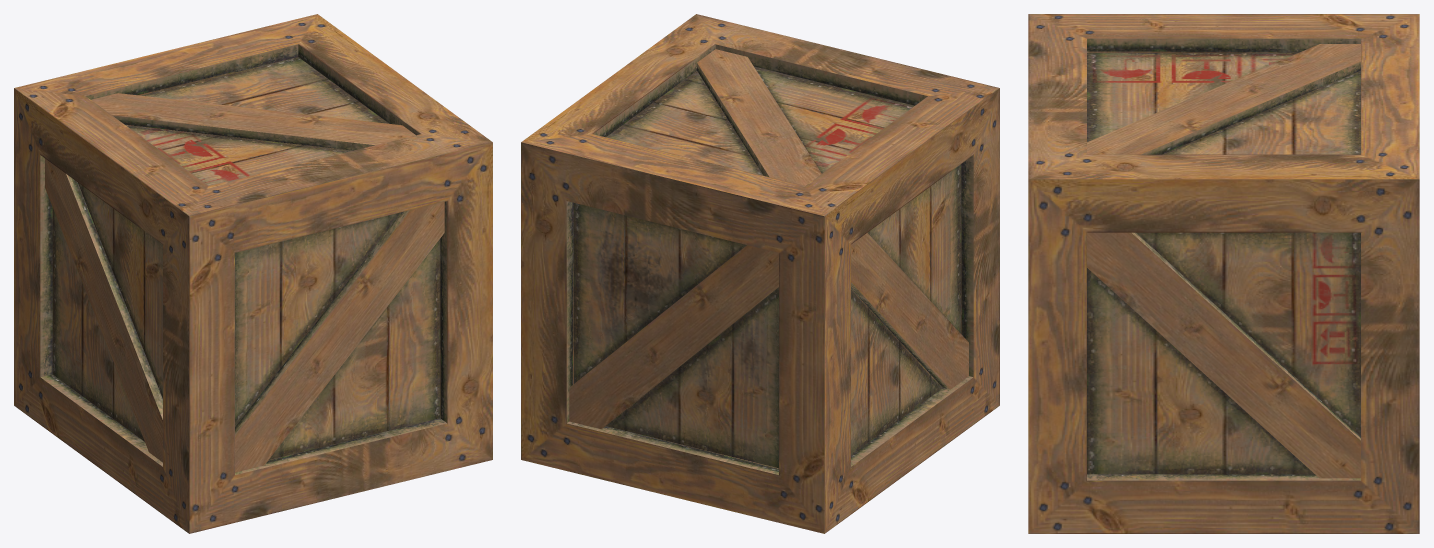
File: WoddenCrate.dae
The picture shows the model from 3 angles, left to right: view 1: azimuth 30°, elevation 25°; view 2: azimuth 150°, elevation 25°; view 3: azimuth 270°, elevation 25°; orthographic projection. The views are drawn at different scales.
Parts seen in each view (by area): view 1: crate; view 2: crate; view 3: crate.
Part boxes in pixels (x1=…): crate: x1=14, y1=14, x2=492, y2=533; crate: x1=521, y1=14, x2=999, y2=533; crate: x1=1028, y1=14, x2=1419, y2=533.
Bounding box in the file's own units: 1 × 1 × 1.
1 material, 1 textured.
